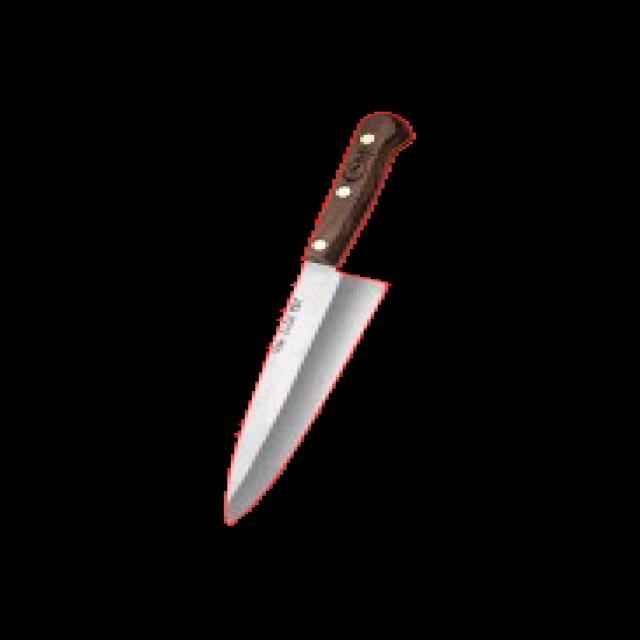knife: (217, 102, 431, 540)
